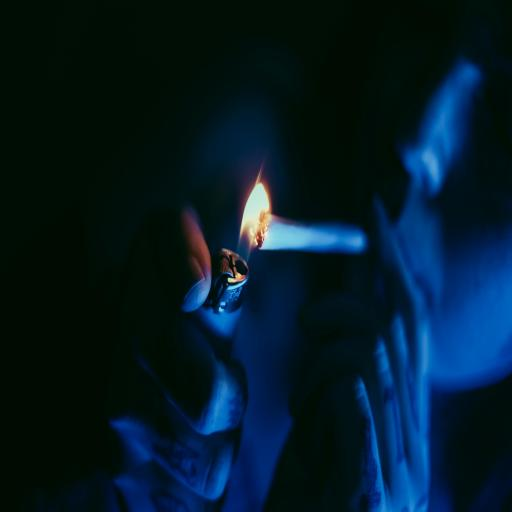lighter: (190, 137, 291, 357)
